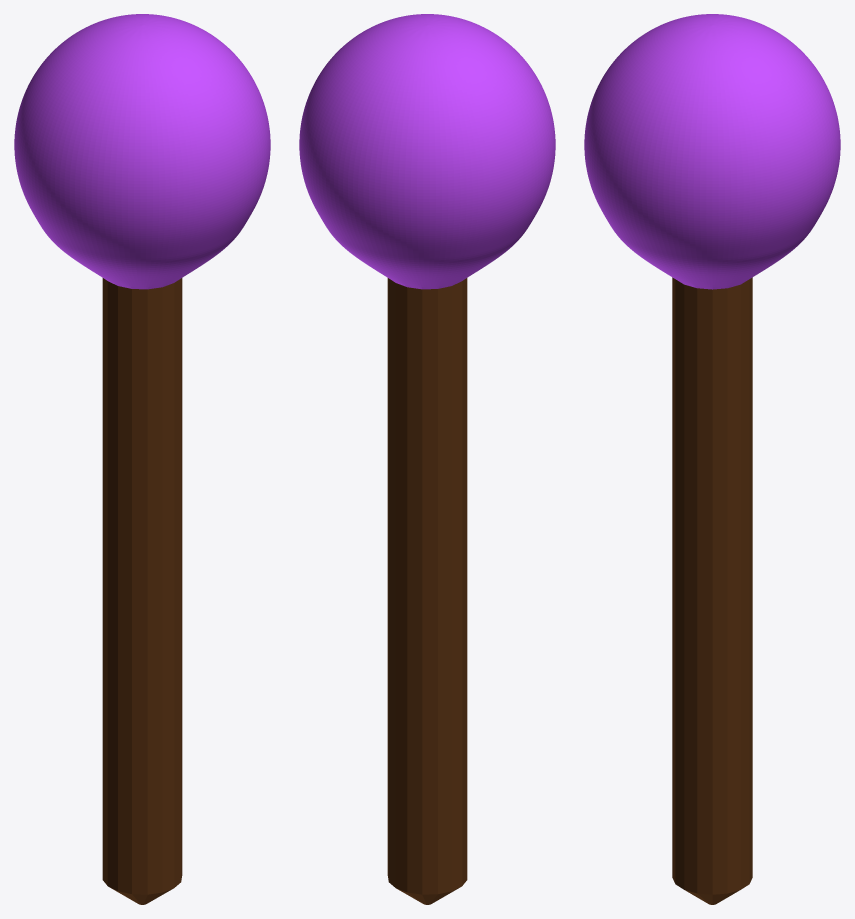
Rendered from Baton Magique.fbx.
3 views of the same model, side by side, from view 1: azimuth 30°, elevation 25°; view 2: azimuth 150°, elevation 25°; view 3: azimuth 270°, elevation 25° (orthographic).
Visible parts, largest first — view 1: Cylindre; view 2: Cylindre; view 3: Cylindre.
Part boxes in pixels (x1,y1,x2,y2): Cylindre: (14, 14, 270, 904); Cylindre: (299, 14, 555, 904); Cylindre: (584, 14, 840, 904).
Size of the model in its own units: 640 by 2417 by 640.
